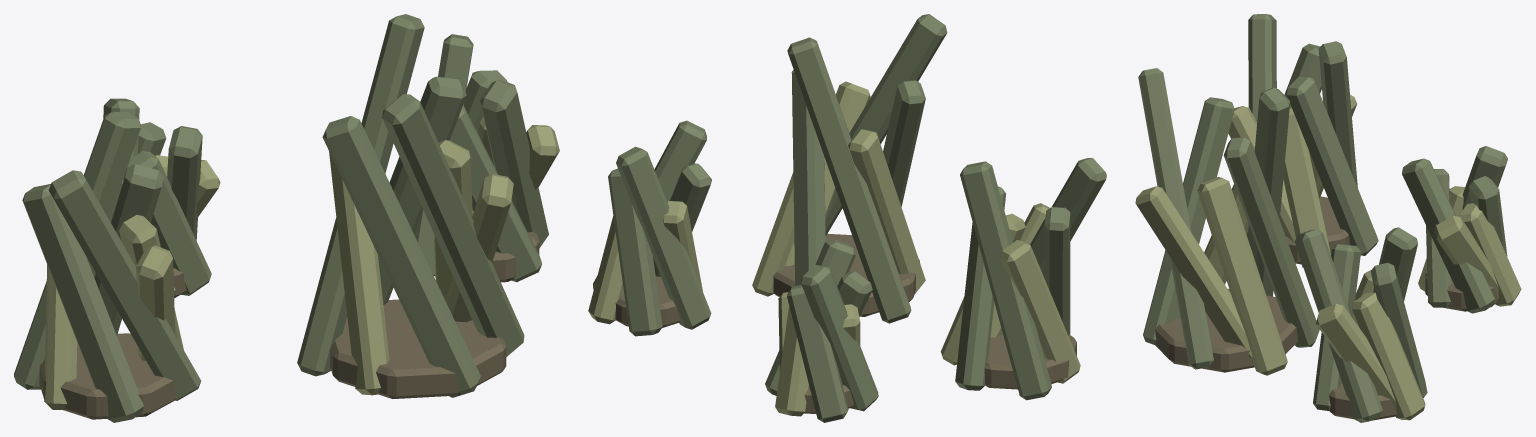
The model's file is ff_scr_01_v1.glb.
The picture shows the model from 3 angles, left to right: view 1: azimuth 30°, elevation 25°; view 2: azimuth 150°, elevation 25°; view 3: azimuth 270°, elevation 25°; orthographic projection. The views are drawn at different scales.
Parts seen in each view (by area): view 1: FF_SCR_01_M_DrySage_runtime, FF_SCR_01_M_DrySageLight_runtime, FF_SCR_01_M_FieldEarth_runtime; view 2: FF_SCR_01_M_DrySage_runtime, FF_SCR_01_M_DrySageLight_runtime, FF_SCR_01_M_FieldEarth_runtime; view 3: FF_SCR_01_M_DrySage_runtime, FF_SCR_01_M_DrySageLight_runtime, FF_SCR_01_M_FieldEarth_runtime.
Part boxes in pixels (x1,y1,x2,y2): FF_SCR_01_M_DrySage_runtime: (14,14,548,422); FF_SCR_01_M_DrySageLight_runtime: (44,117,559,410); FF_SCR_01_M_FieldEarth_runtime: (39,232,539,419); FF_SCR_01_M_DrySage_runtime: (593,14,1106,422); FF_SCR_01_M_DrySageLight_runtime: (588,81,1080,416); FF_SCR_01_M_FieldEarth_runtime: (615,233,1076,413); FF_SCR_01_M_DrySage_runtime: (1138,14,1507,422); FF_SCR_01_M_DrySageLight_runtime: (1135,94,1521,420); FF_SCR_01_M_FieldEarth_runtime: (1155,196,1497,420).
Bounding box in the file's own units: 2.39 × 1.34 × 1.77.
